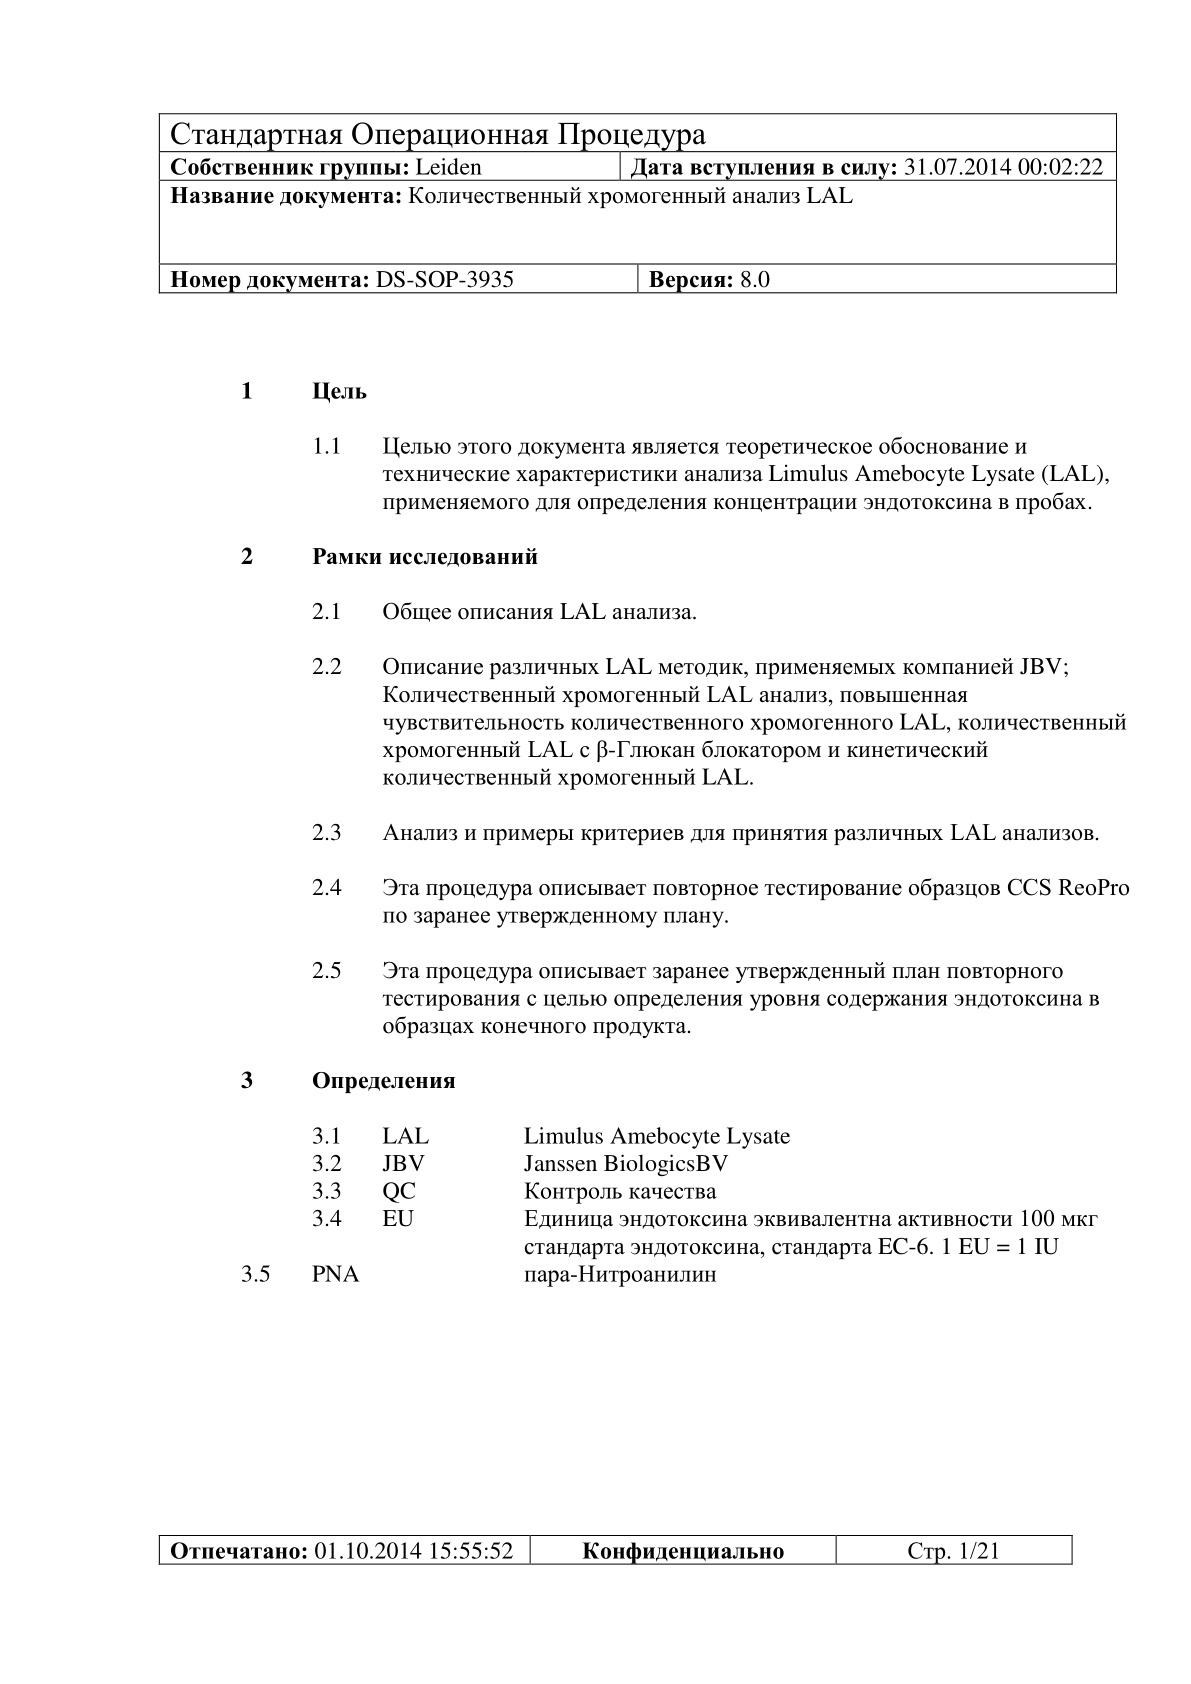full_lined: (159, 1535, 1072, 1565)
merged_cells: (159, 112, 1118, 294)
